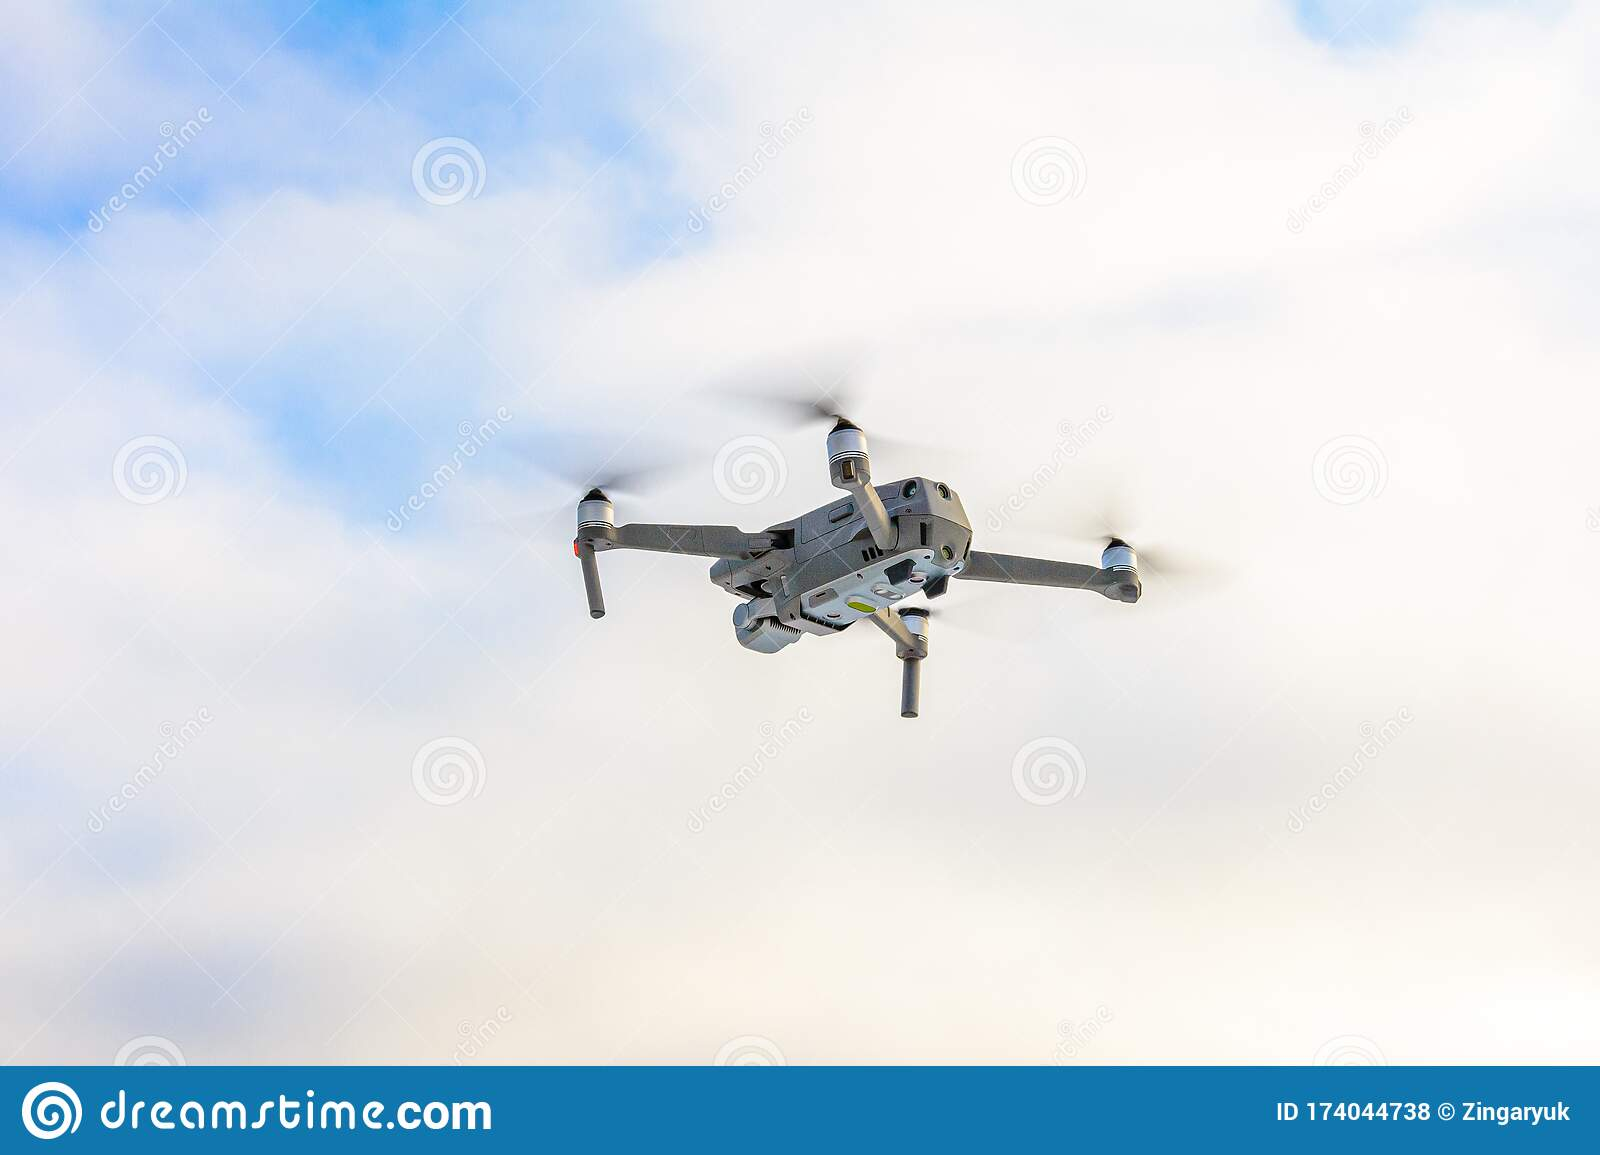drone: (450, 332, 1282, 774)
